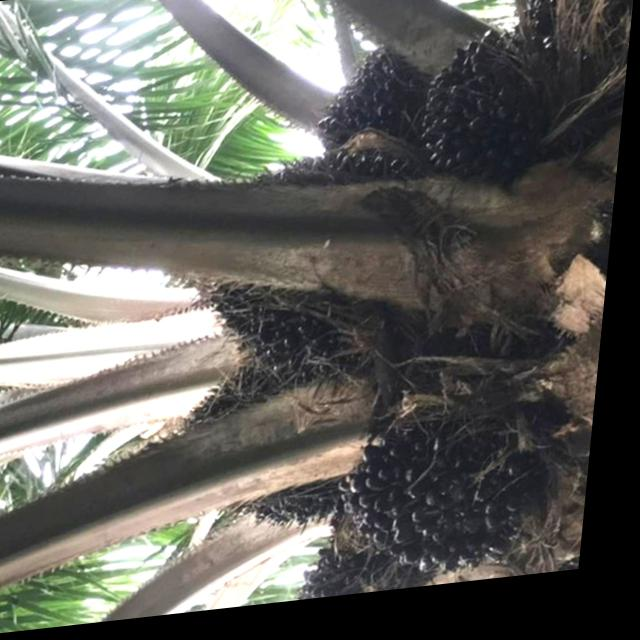almost: (180, 150, 406, 385), (174, 354, 383, 547), (352, 413, 563, 595), (411, 43, 557, 194), (313, 47, 432, 161)
